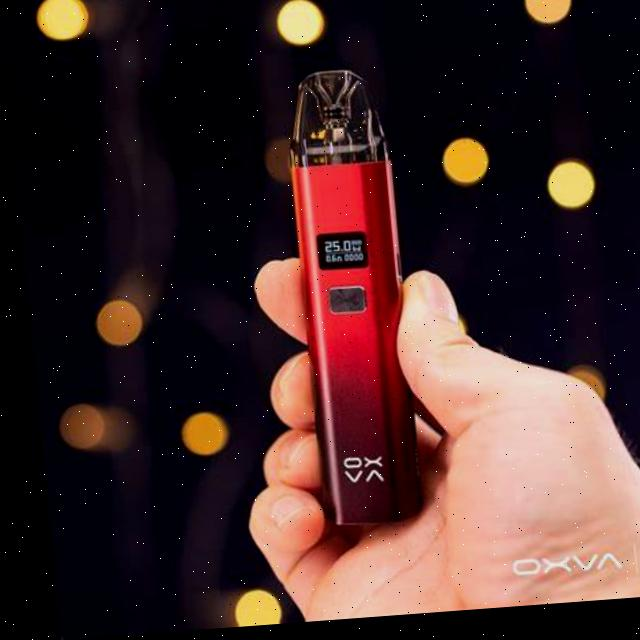vape: (283, 76, 416, 530)
